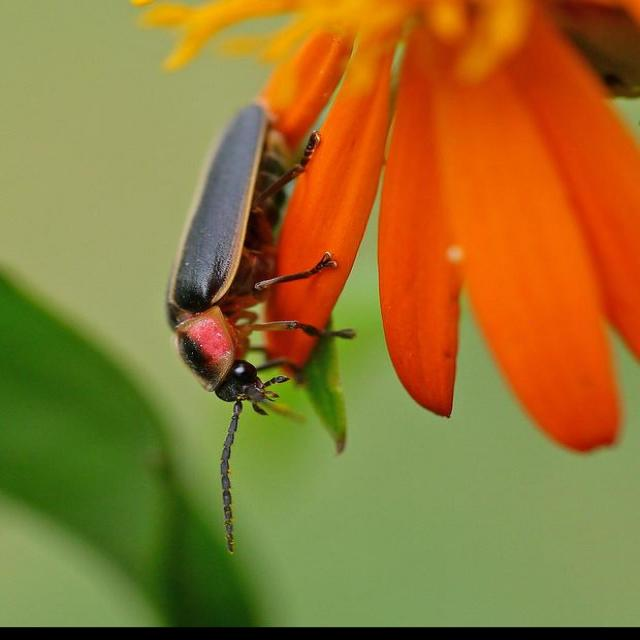BlisterBeetle-Adult-: (158, 104, 368, 555)
